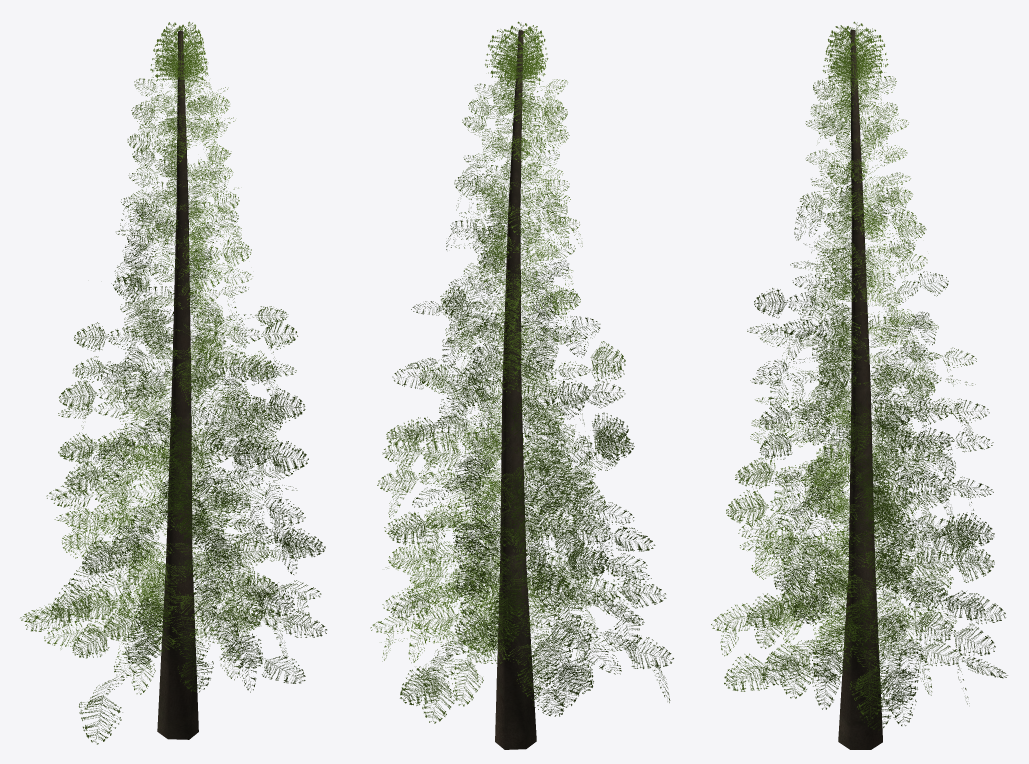
The model's file is larch_sparse_v01_LOD2.fbx.
The picture shows the model from 3 angles, left to right: view 1: azimuth 30°, elevation 25°; view 2: azimuth 150°, elevation 25°; view 3: azimuth 270°, elevation 25°; orthographic projection.
Visible parts, largest first — view 1: larch_sparse_v01_LOD2; view 2: larch_sparse_v01_LOD2; view 3: larch_sparse_v01_LOD2.
Part boxes in pixels (x1,y1,x2,y2): larch_sparse_v01_LOD2: (20,21,326,744); larch_sparse_v01_LOD2: (370,21,673,749); larch_sparse_v01_LOD2: (711,21,1007,749).
Bounding box in the file's own units: 556 × 550 × 1421.
2 materials, 2 textured.
